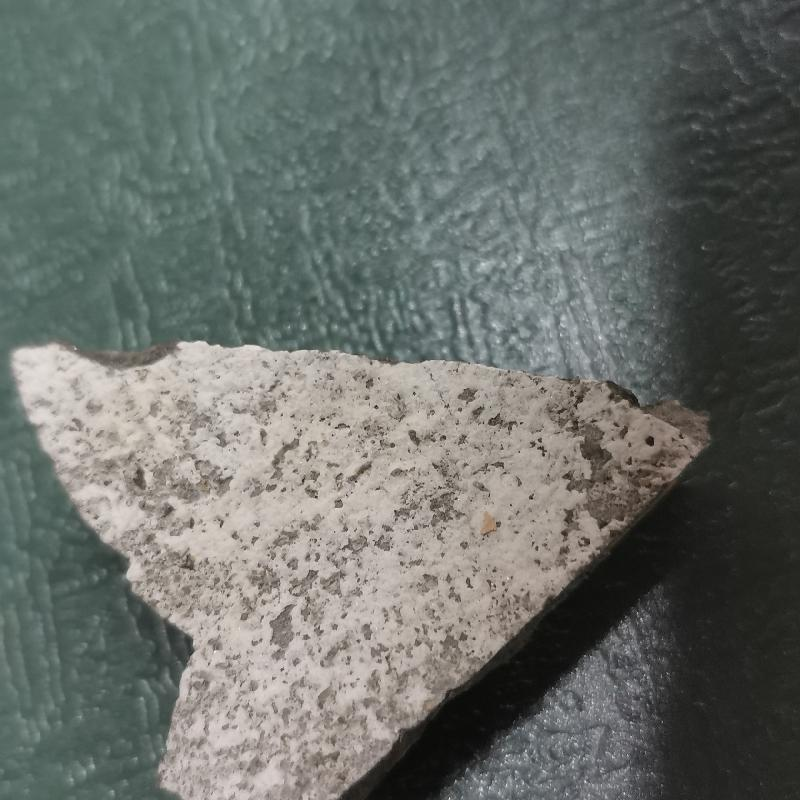tile: (6, 321, 729, 791)
